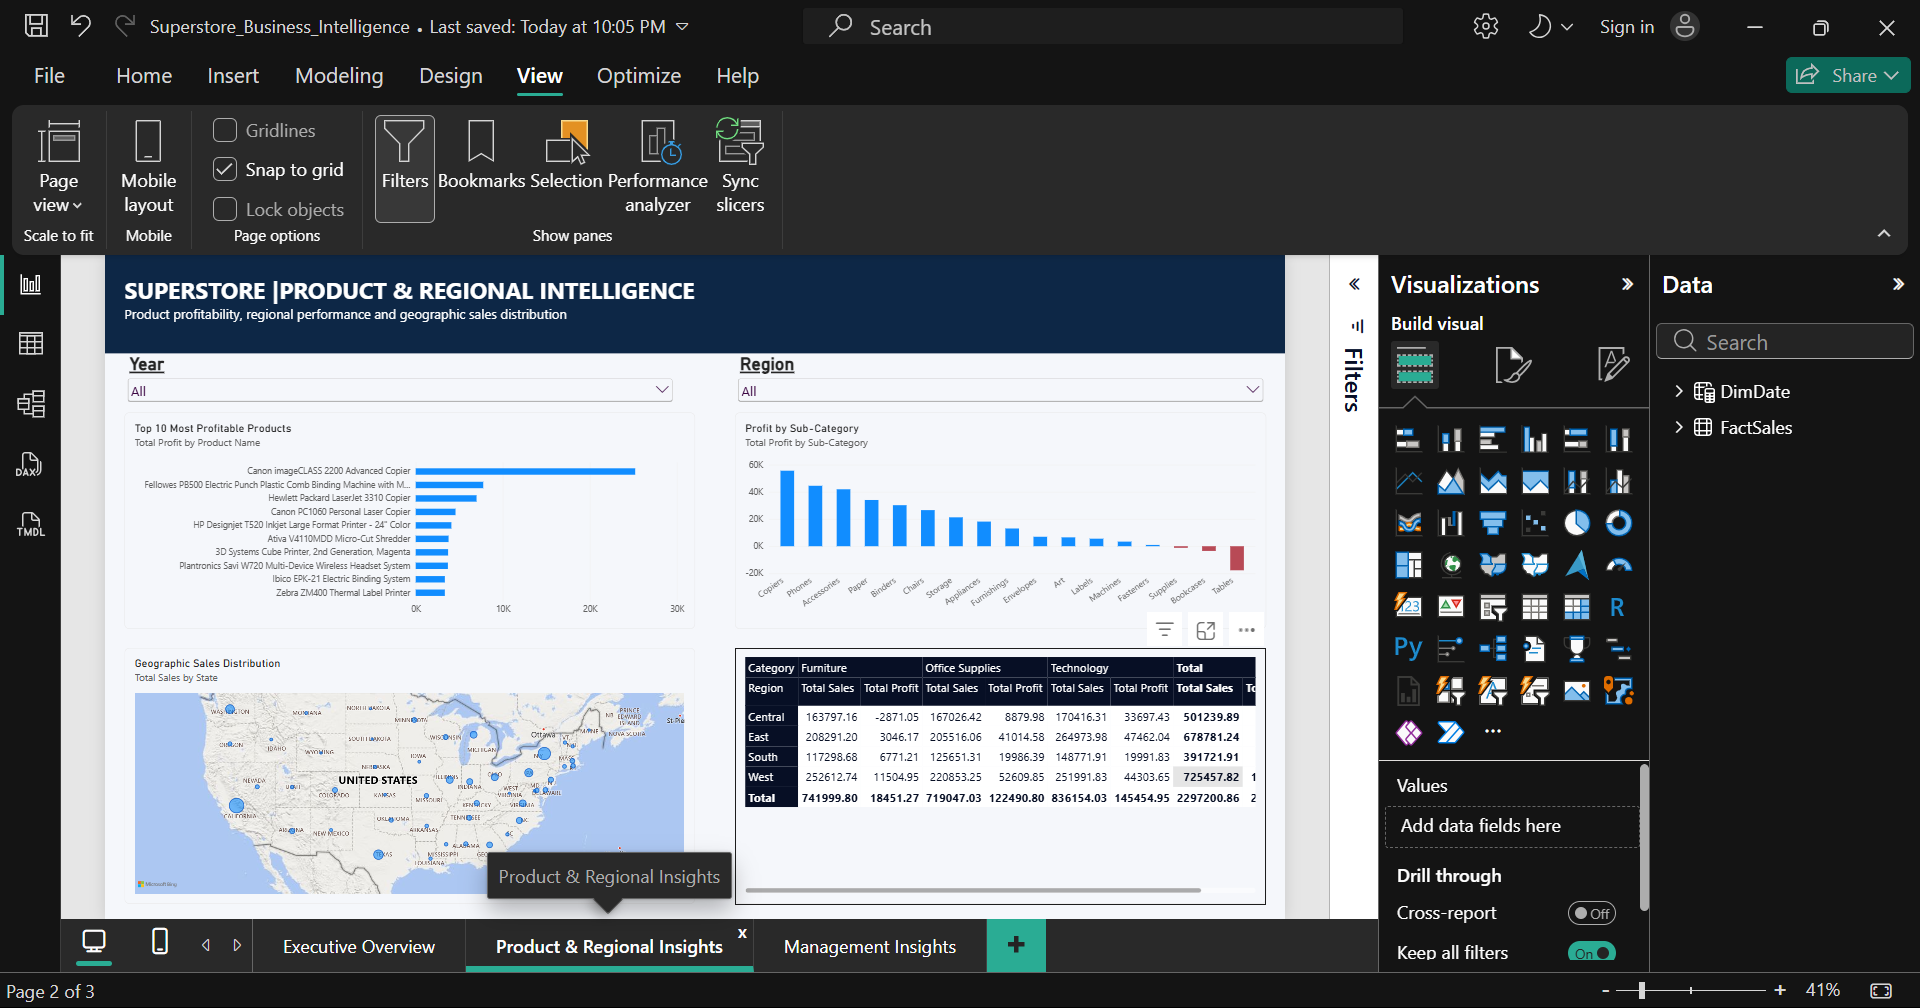

Layout of this report page (visuals, bound fields, positions):
{"tool":"powerbi","page":{"name":"Product & Regional Insights","canvas":[1920,1080],"ordinal":1},"visuals":[{"type":"barChart","title":"Top 10 Most Profitable Products","fields":{"Category":["FactSales.Product Name"],"Y":["FactSales.Total Profit"]},"box":[32,256,928,352],"z":0},{"type":"columnChart","title":"Profit by Sub-Category","fields":{"Category":["FactSales.Sub-Category"],"Y":["FactSales.Total Profit"]},"box":[1024,256,864,352],"z":1000},{"type":"map","title":"Geographic Sales Distribution","fields":{"Category":["FactSales.State"],"Size":["FactSales.Total Sales"]},"box":[32,640,928,416],"z":2000},{"type":"pivotTable","title":"Regional Category Performance","fields":{"Columns":["FactSales.Category"],"Rows":["FactSales.Region"],"Values":["FactSales.Total Sales","FactSales.Total Profit"]},"box":[1024,640,864,416],"z":3000},{"type":"slicer","fields":{"Values":["DimDate.Year"]},"box":[32,160,896,96],"z":4000},{"type":"slicer","fields":{"Values":["FactSales.Region"]},"box":[1024,160,864,96],"z":5000},{"type":"shape","box":[0,0,1920,160],"z":6000},{"type":"textbox","box":[32,32,1824,128],"z":7000}]}

Visuals, with their boxes on the page's 1920x1080 design canvas (x1, y1, x2, y2). These are canvas units, not pixel positions in the 1920x1008 screenshot, which may show the page scaled, cropped or inside an application window:
"Top 10 Most Profitable Products" barChart: Rect(32, 256, 960, 608)
"Profit by Sub-Category" columnChart: Rect(1024, 256, 1888, 608)
"Geographic Sales Distribution" map: Rect(32, 640, 960, 1056)
"Regional Category Performance" pivotTable: Rect(1024, 640, 1888, 1056)
slicer - DimDate.Year: Rect(32, 160, 928, 256)
slicer - FactSales.Region: Rect(1024, 160, 1888, 256)
shape: Rect(0, 0, 1920, 160)
textbox: Rect(32, 32, 1856, 160)
